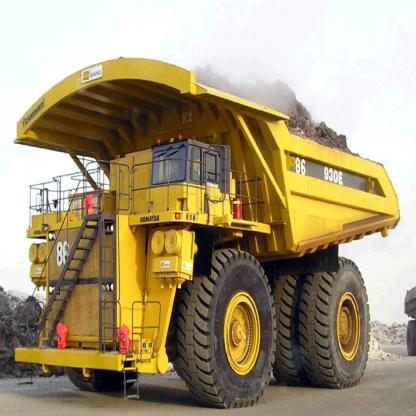dump_truck: (10, 51, 400, 415)
